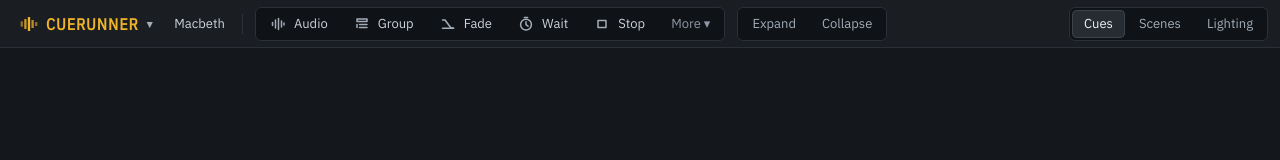
Test case: Toolbar › renames the show from the toolbar, and shows the new name there
Double-click the element with class "workspace-name-text" at (200, 24), box [174,15,225,32]
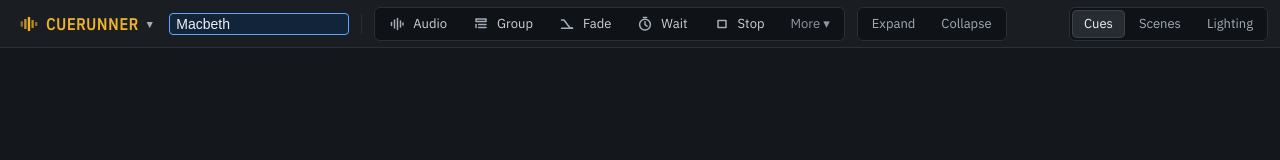
Replace the text in the field with class "workspace-name-input" with "Hamlet". click: (259, 24)
box: [169,12,349,34]
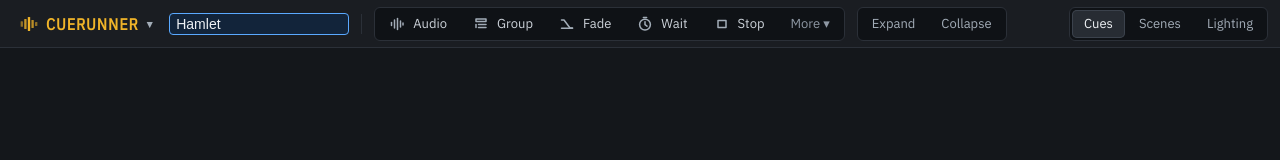
Leave the field with class "workspace-name-input", box [169,12,349,34]
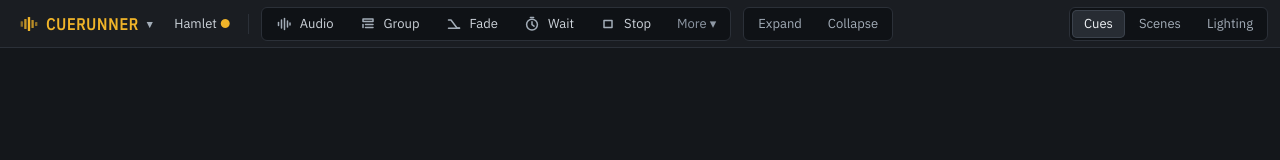
Expected: the text "Hamlet" is shown, [174,15,217,32]
Expected: the element with class "workspace-name-text" reads "Hamlet ●", [169,12,236,35]
